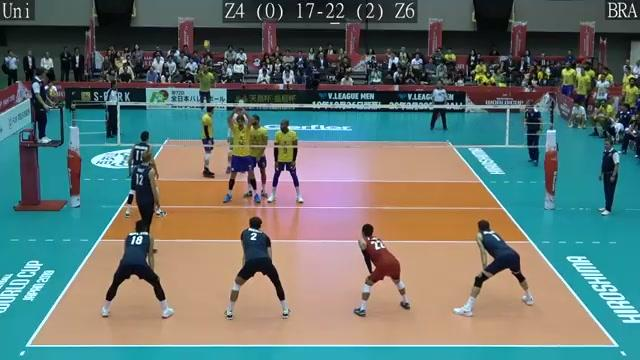ball: (200, 40, 214, 50)
